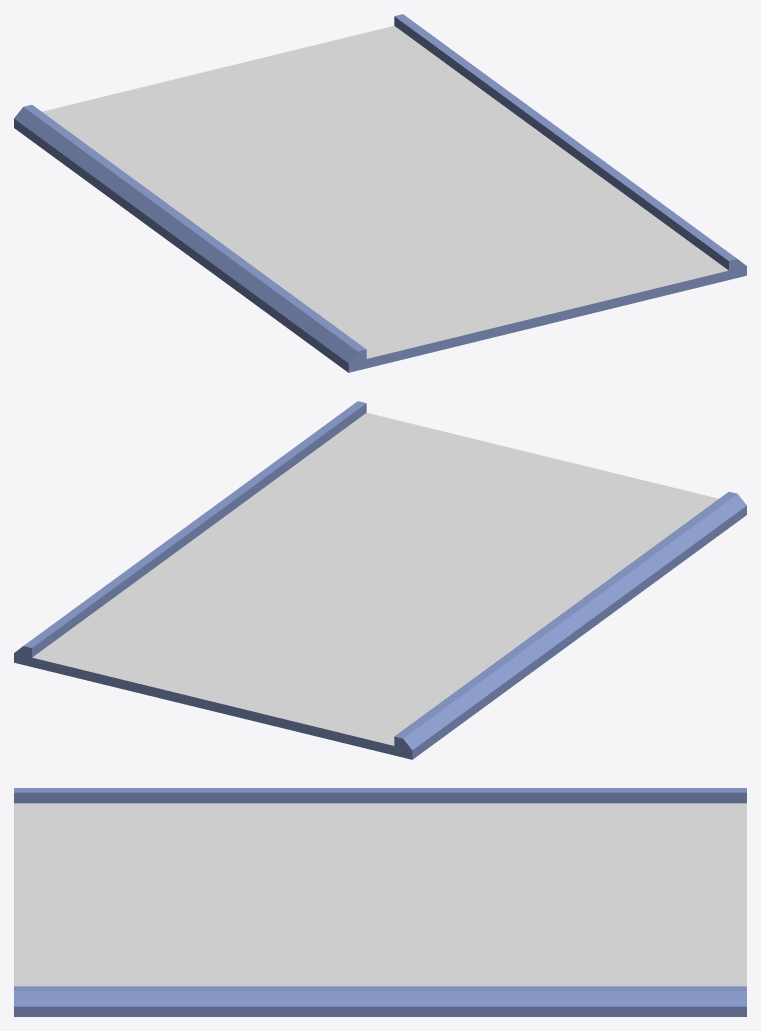
Rendered from tile-straight.glb.
3 renders of one model, top to bottom at view 1: azimuth 30°, elevation 25°; view 2: azimuth 150°, elevation 25°; view 3: azimuth 270°, elevation 25°, orthographic. The views are drawn at different scales.
Visible parts, largest first — view 1: tile-straight; view 2: tile-straight; view 3: tile-straight.
Boxes of the visible parts, x1,y1,x2,y2 form: tile-straight: (14,14,746,372); tile-straight: (14,401,746,759); tile-straight: (14,788,746,1016).
Bounding box in the file's own units: 11 × 0.5 × 16.
